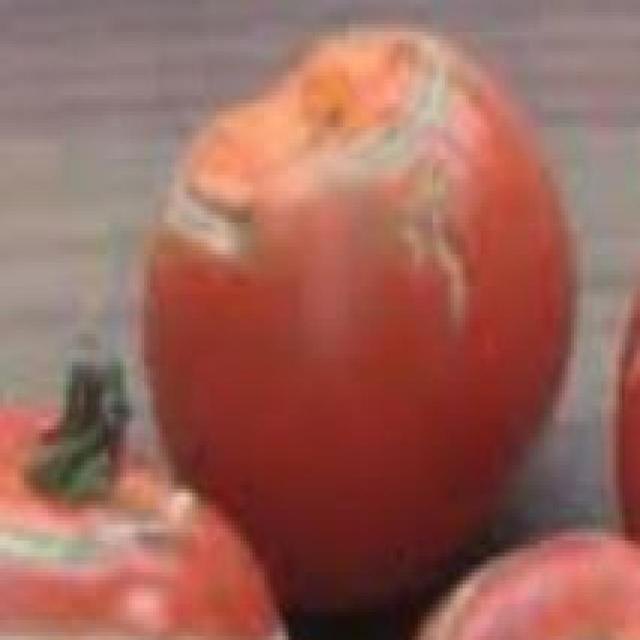Cracking Fruit: (35, 45, 285, 359)
